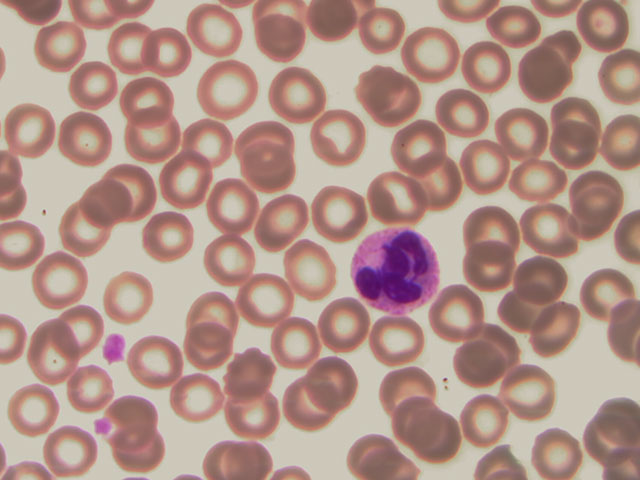Platelets: (96, 323, 132, 369), (94, 412, 114, 440)
RBC: (200, 57, 261, 121), (266, 63, 327, 127), (308, 103, 369, 167), (359, 64, 420, 128), (391, 109, 452, 173), (408, 151, 469, 215), (365, 166, 426, 230), (307, 181, 368, 245), (253, 191, 314, 255), (241, 140, 302, 204), (235, 113, 296, 177), (179, 105, 240, 169), (121, 109, 182, 173), (116, 72, 177, 136), (63, 53, 124, 117), (31, 17, 92, 81), (138, 18, 199, 82), (100, 15, 161, 79), (185, 1, 246, 65), (252, 1, 313, 64), (350, 3, 407, 58), (401, 25, 458, 80), (458, 39, 515, 94), (485, 1, 542, 56), (517, 46, 574, 101), (549, 93, 606, 148), (548, 121, 605, 176), (498, 105, 555, 160), (457, 146, 514, 201), (437, 86, 494, 141), (510, 150, 567, 205), (567, 173, 624, 228), (522, 204, 579, 259), (462, 198, 519, 253), (463, 238, 520, 293), (510, 248, 567, 303), (496, 281, 553, 336), (525, 296, 582, 351), (580, 266, 637, 321), (451, 329, 508, 384), (429, 281, 486, 336), (369, 312, 426, 367), (315, 296, 372, 351), (284, 242, 341, 297), (239, 272, 296, 327), (202, 233, 259, 288), (204, 173, 261, 228), (159, 154, 216, 209), (138, 211, 195, 266), (106, 166, 163, 221), (76, 177, 133, 232), (51, 201, 108, 256), (31, 253, 88, 308), (105, 268, 162, 323), (183, 289, 240, 344), (180, 321, 237, 376), (125, 334, 182, 389), (165, 366, 222, 421), (220, 344, 277, 399), (226, 390, 283, 445), (271, 377, 328, 432), (265, 313, 322, 368), (304, 355, 361, 410), (377, 362, 434, 417), (393, 398, 450, 453), (462, 393, 519, 448), (503, 365, 560, 420), (530, 425, 587, 480), (583, 408, 640, 463), (22, 325, 79, 380), (46, 306, 103, 361), (56, 114, 113, 169), (117, 393, 174, 448), (37, 425, 94, 480), (10, 381, 67, 436), (58, 360, 115, 415), (1, 102, 57, 157)
WBC: (349, 226, 442, 317)
